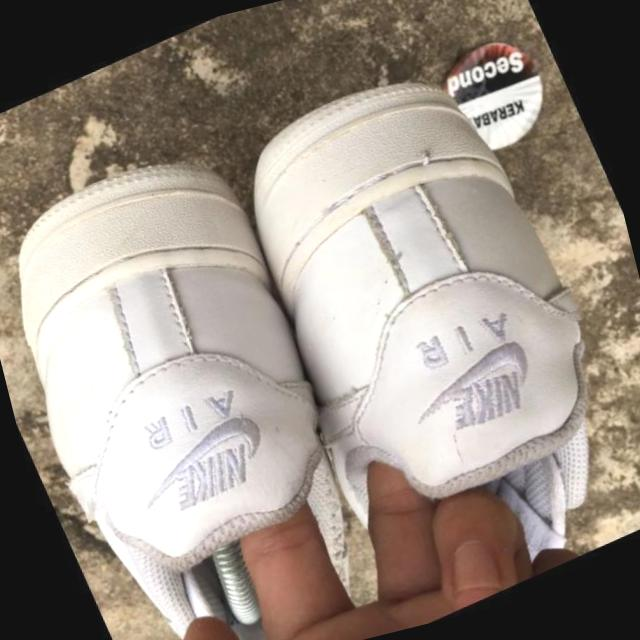nike_original_airforce: (174, 13, 640, 640), (0, 97, 415, 640)
